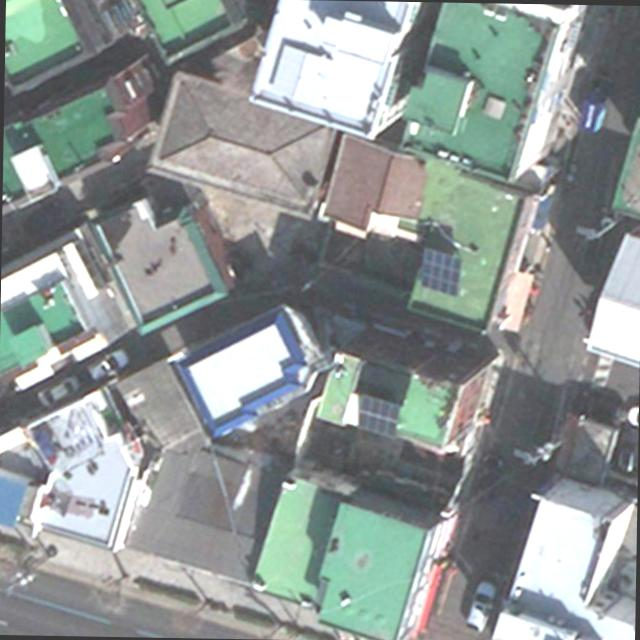solar: (416, 244, 464, 298), (354, 390, 402, 440)
